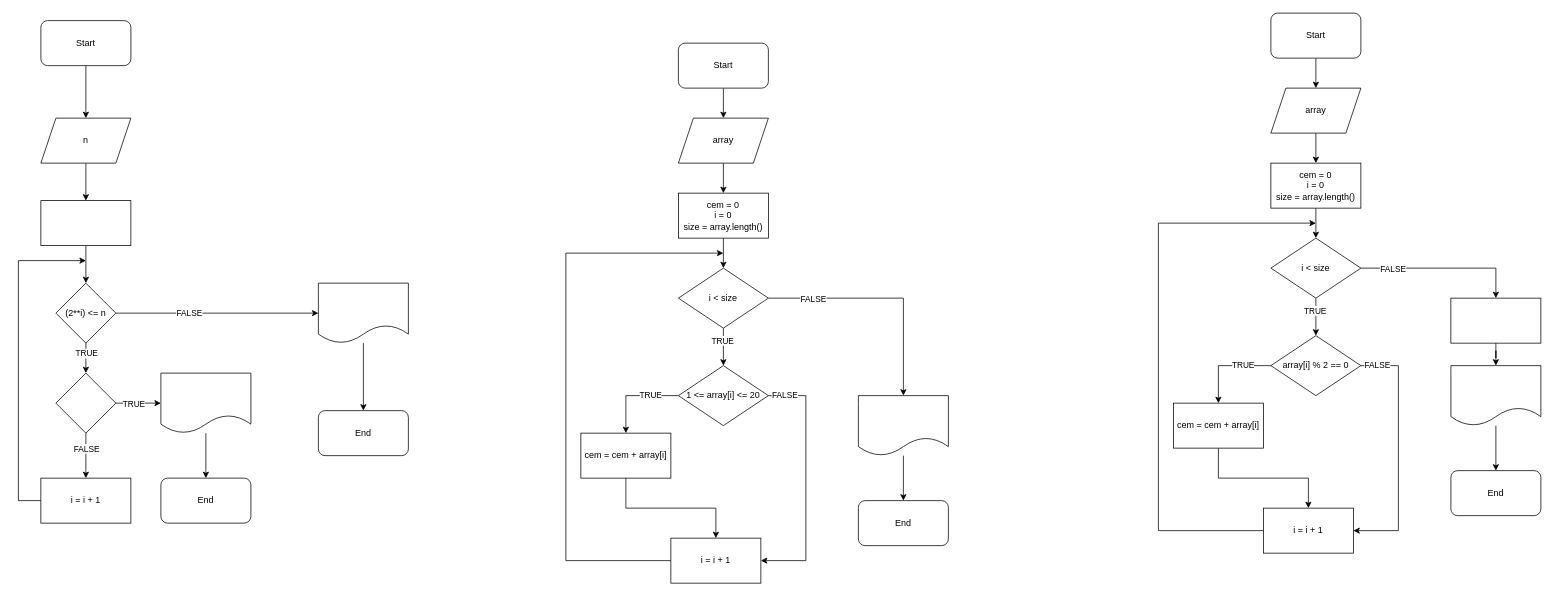
Image size: 1554x596. Some labels were removed from this diagram. Here are the shapes that lost their labels. From the top down, the centre of each, then its label:
At point (85, 223): "i = 0".
At point (363, 312): "Beraber deyil".
At point (1495, 320): "kvadrat = cem ** 2".
At point (85, 402): "(2**i) == n".
At point (205, 402): "Berabardir".
At point (1495, 395): "kvadrat".
At point (903, 425): "cem".
